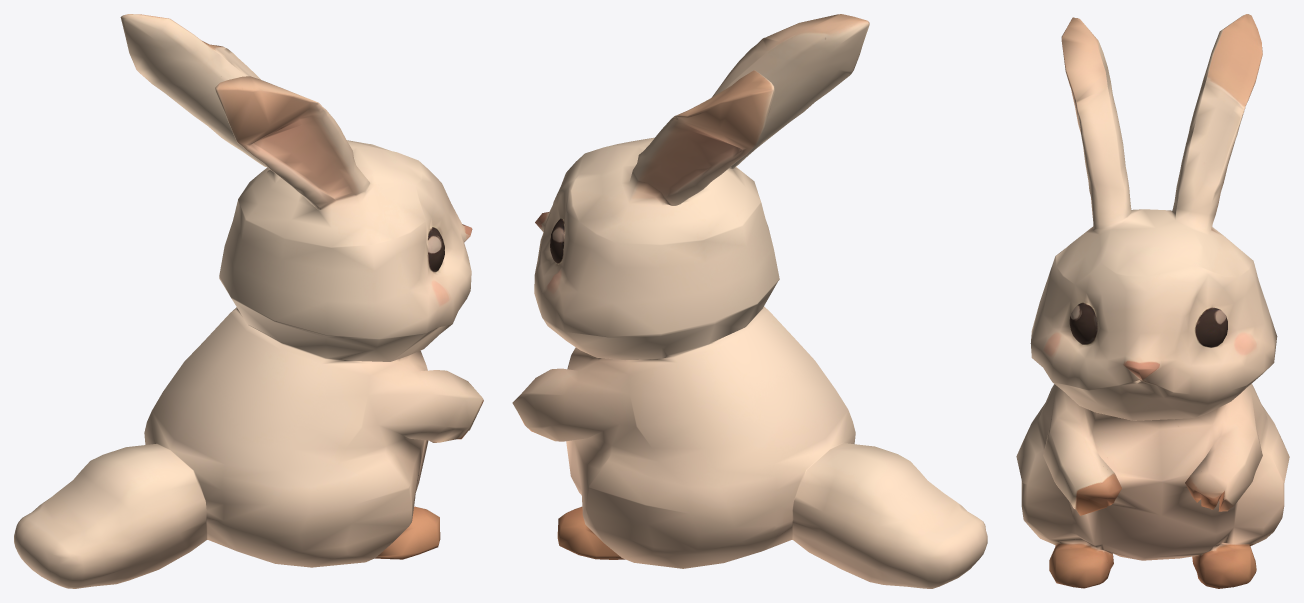
3 renders of one model, left to right at view 1: azimuth 30°, elevation 25°; view 2: azimuth 150°, elevation 25°; view 3: azimuth 270°, elevation 25°, orthographic. The views are drawn at different scales.
Parts seen in each view (by area): view 1: tripo_node_be6f228e-66dd-4d55-a59a-2fd58e725a75; view 2: tripo_node_be6f228e-66dd-4d55-a59a-2fd58e725a75; view 3: tripo_node_be6f228e-66dd-4d55-a59a-2fd58e725a75.
Boxes of the visible parts, x1=… form: tripo_node_be6f228e-66dd-4d55-a59a-2fd58e725a75: x1=14, y1=14, x2=483, y2=588; tripo_node_be6f228e-66dd-4d55-a59a-2fd58e725a75: x1=512, y1=14, x2=987, y2=588; tripo_node_be6f228e-66dd-4d55-a59a-2fd58e725a75: x1=1016, y1=14, x2=1289, y2=588.
Bounding box in the file's own units: 0.8982 × 1 × 0.5205.
Materials: 1 (1 with a texture image).
